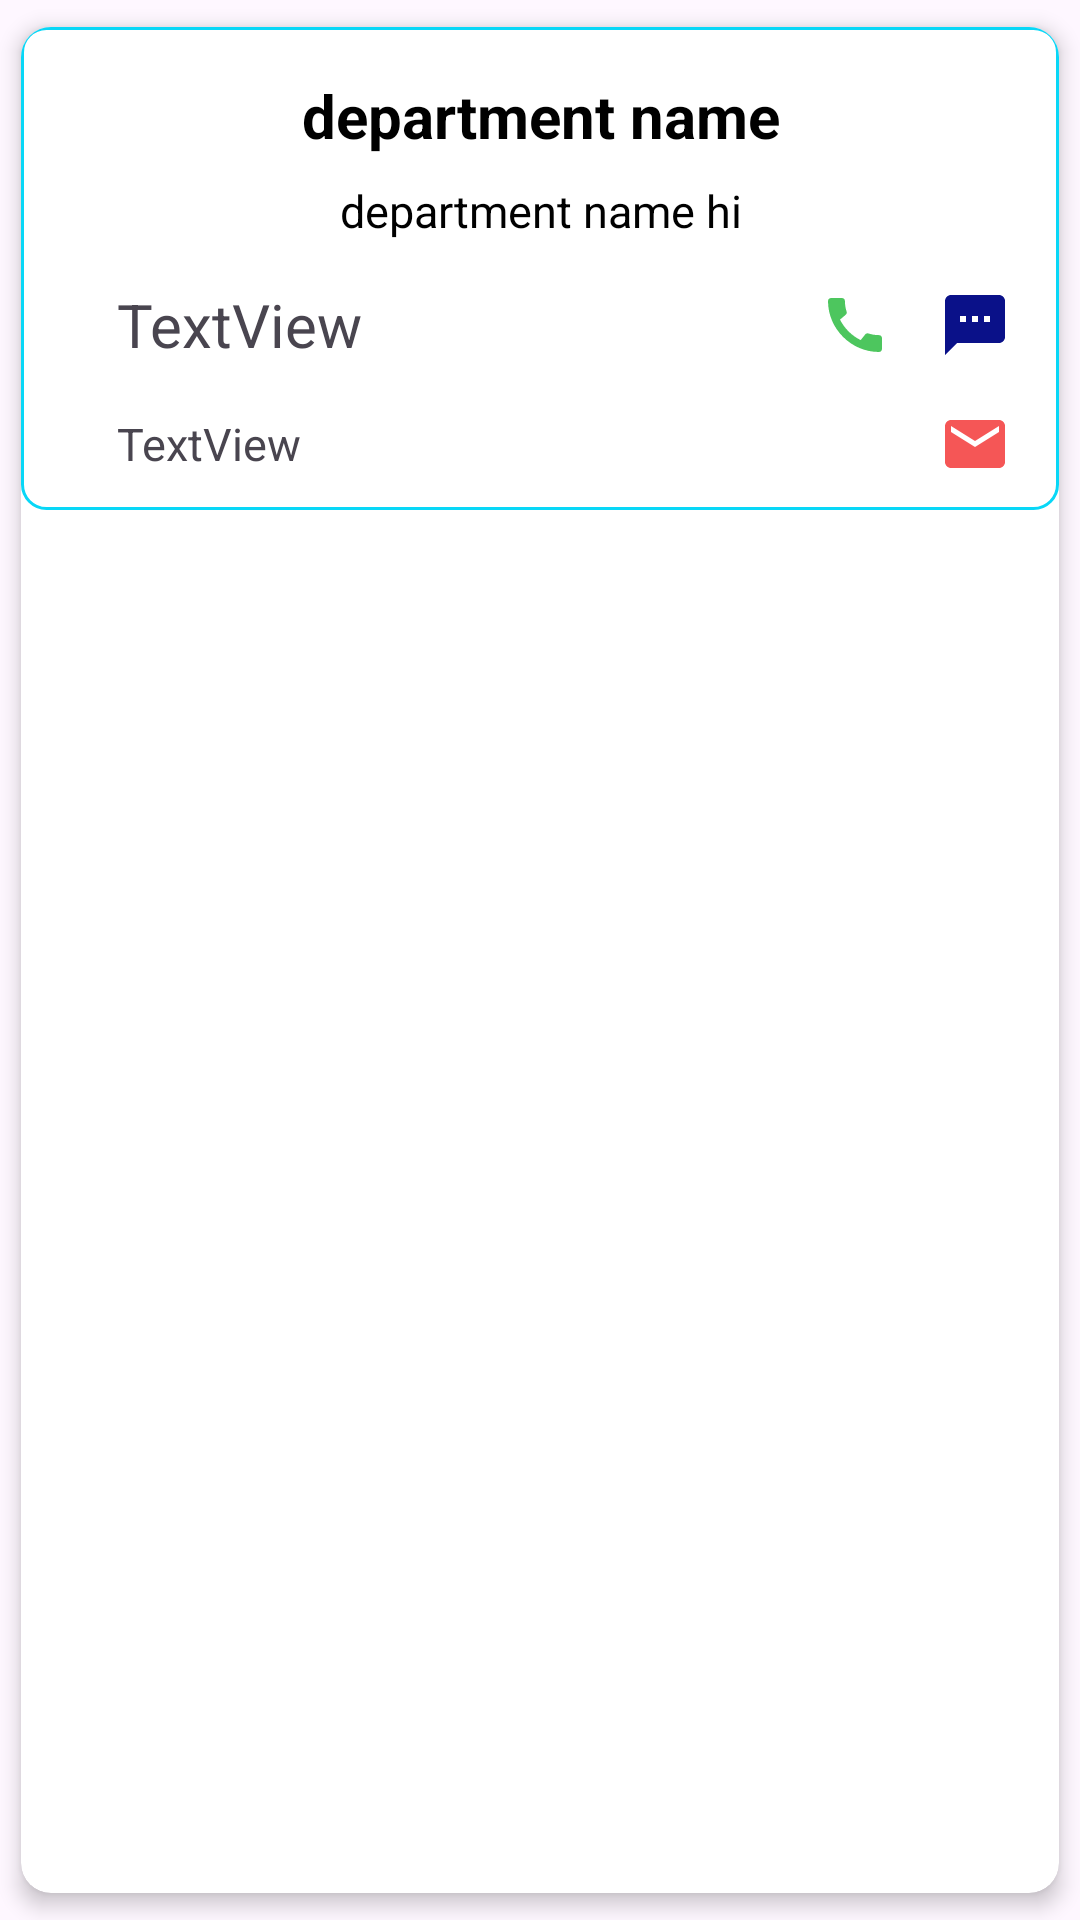

Locate icon controls on the screen. Image size 1080*1920, boxes as (left=x1, top=y1, right=x2, bottom=y2).
call: (left=828, top=298, right=882, bottom=352)
email: (left=945, top=420, right=1005, bottom=468)
